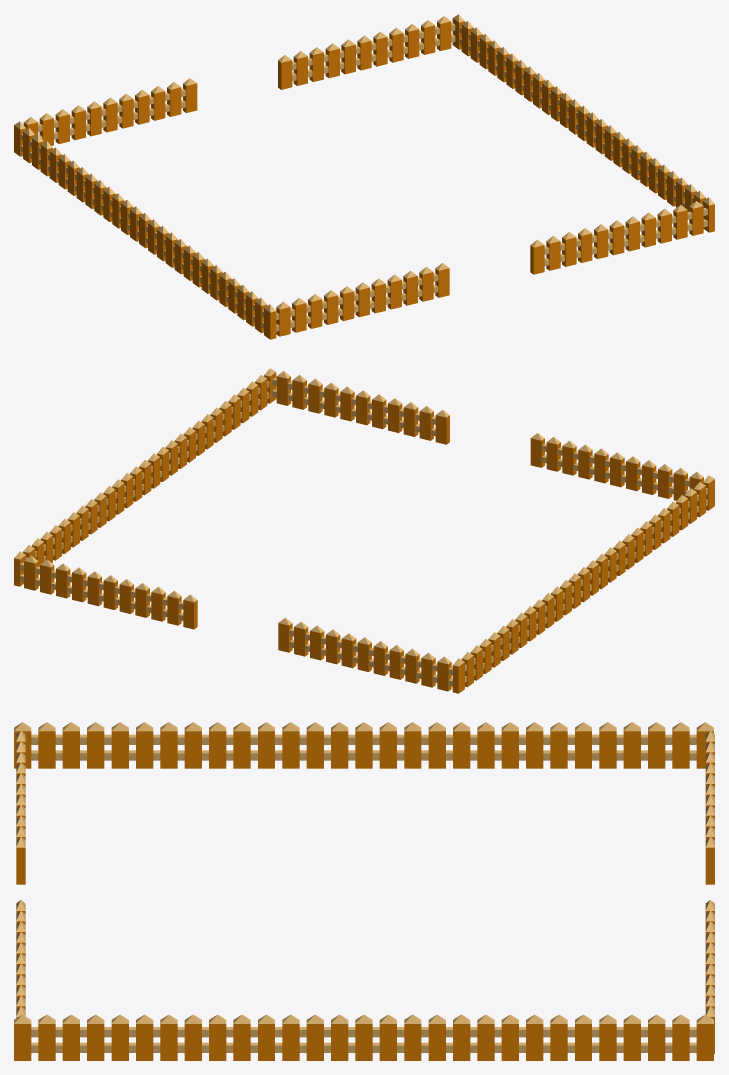
The model's file is OneMeshZabor.fbx.
3 renders of one model, top to bottom at view 1: azimuth 30°, elevation 25°; view 2: azimuth 150°, elevation 25°; view 3: azimuth 270°, elevation 25°, orthographic. The views are drawn at different scales.
Parts seen in each view (by area): view 1: Cube.113; view 2: Cube.113; view 3: Cube.113.
Part boxes in pixels (x1,y1,x2,y2): Cube.113: [14, 14, 714, 339]; Cube.113: [14, 368, 714, 693]; Cube.113: [14, 722, 714, 1060].
Size of the model in its own units: 60 by 4.2 by 59.99.
